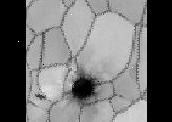good_void: (69, 64, 99, 106), (34, 92, 45, 102), (118, 95, 124, 99)
